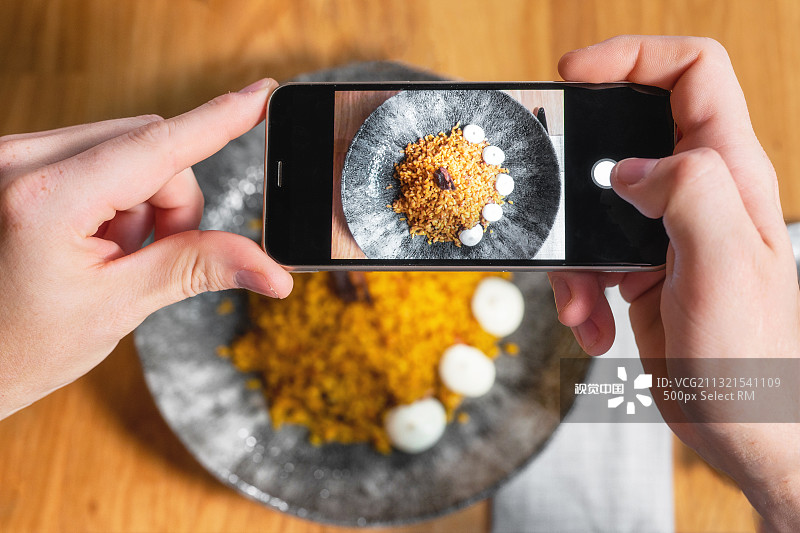taking photos: (1, 25, 800, 516)
